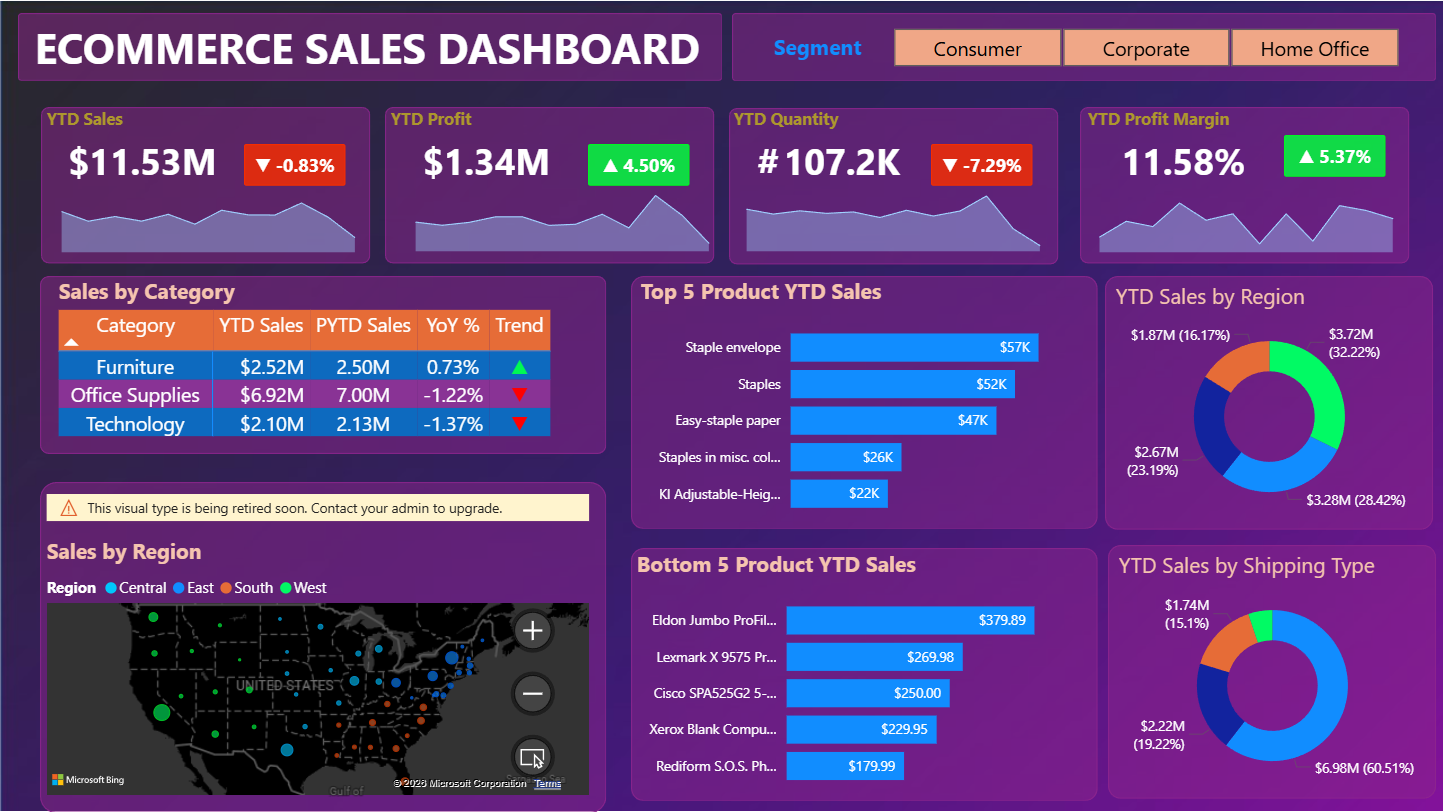

Layout of this report page (visuals, bound fields, positions):
{"tool":"powerbi","page":{"name":"Overview","canvas":[1280,720],"ordinal":0},"visuals":[{"type":"shape","box":[15.6,10.7,624.4,60.3],"z":0},{"type":"textbox","box":[25.3,10.9,614.1,60.3],"z":1000},{"type":"shape","box":[36.2,94.1,292,138.7],"z":2000},{"type":"advanceCardE03760C5AB684758B56AA29F9E6C257B","title":"YTD Sales","fields":{"mainMeasure":["ecommerce_data.YTD Sales"]},"box":[36.2,94.1,179.8,70],"z":3000},{"type":"areaChart","fields":{"Category":["Calendar Table.MonthNum"],"Y":["Sum(ecommerce_data.sales_per_order)"]},"box":[15.7,158,313.7,70],"z":4000},{"type":"advanceCardE03760C5AB684758B56AA29F9E6C257B","fields":{"mainMeasure":["Calendar Table.Trend Card"]},"box":[216,126.7,90.5,37.4],"z":5000},{"type":"shape","box":[341.7,94.1,292,138.7],"z":6000},{"type":"advanceCardE03760C5AB684758B56AA29F9E6C257B","title":"YTD Profit","fields":{"mainMeasure":["Calendar Table.YTD profit"]},"box":[341.7,94.1,179.8,70],"z":7000},{"type":"advanceCardE03760C5AB684758B56AA29F9E6C257B","fields":{"mainMeasure":["Calendar Table.Trend profit"]},"box":[521.4,126.7,90.5,37.4],"z":8000},{"type":"areaChart","fields":{"Category":["Calendar Table.MonthNum"],"Y":["Sum(ecommerce_data.profit_per_order)"]},"box":[329.6,157.1,313.7,70],"z":9000},{"type":"shape","box":[646,94.5,292,138.7],"z":10000},{"type":"advanceCardE03760C5AB684758B56AA29F9E6C257B","title":"YTD Quantity","fields":{"mainMeasure":["Calendar Table.YTD quantity"]},"box":[645.4,94.1,179.8,70],"z":11000},{"type":"advanceCardE03760C5AB684758B56AA29F9E6C257B","fields":{"mainMeasure":["Calendar Table.Trend quantity"]},"box":[825.8,127,90.5,37.4],"z":12000},{"type":"areaChart","fields":{"Category":["Calendar Table.MonthNum"],"Y":["Sum(ecommerce_data.order_quantity)"]},"box":[623.7,156.8,313.7,70],"z":13000},{"type":"shape","box":[957.9,94.1,292,138.7],"z":14000},{"type":"advanceCardE03760C5AB684758B56AA29F9E6C257B","title":"YTD Profit Margin","fields":{"mainMeasure":["Calendar Table.YTD profit margin"]},"box":[959.1,94.1,179.8,70],"z":15000},{"type":"advanceCardE03760C5AB684758B56AA29F9E6C257B","fields":{"mainMeasure":["Calendar Table.Trend profit margin"]},"box":[1138.9,118.7,90.5,37.4],"z":16000},{"type":"areaChart","fields":{"Category":["Calendar Table.MonthNum"],"Y":["Calendar Table.Profit Margin"]},"box":[936.2,158,313.7,70],"z":17000},{"type":"shape","box":[35.7,244.3,502.2,157.8],"z":18000},{"type":"pivotTable","title":"Sales by Category","fields":{"Rows":["ecommerce_data.category_name"],"Values":["ecommerce_data.YTD Sales","ecommerce_data.PYTD Sales","ecommerce_data.YoY sales","Calendar Table.Sale icon"]},"box":[46.7,244.3,491.3,157.8],"z":19000},{"type":"shape","box":[35.7,426.8,502.2,293.7],"z":20000},{"type":"map","title":"Sales by Region","fields":{"Size":["ecommerce_data.YTD Sales"],"Y":["us_state_long_lat_codes.latitude"],"X":["us_state_long_lat_codes.longitude"],"Series":["ecommerce_data.customer_region"]},"box":[36.2,436.7,491,272.7],"z":21000},{"type":"shape","box":[559.8,243.7,413.8,224.4],"z":22000},{"type":"shape","box":[559.8,485,413.8,224.4],"z":23000},{"type":"barChart","title":"Top 5 Product YTD Sales","fields":{"Category":["ecommerce_data.product_name"],"Y":["ecommerce_data.YTD Sales"]},"box":[563.4,243.7,406.6,224.4],"z":24000},{"type":"barChart","title":"Bottom 5 Product YTD Sales","fields":{"Category":["ecommerce_data.product_name"],"Y":["ecommerce_data.YTD Sales"]},"box":[559.9,485.8,406.2,223.7],"z":25000},{"type":"shape","box":[979.8,244.3,290.9,225],"z":26000},{"type":"donutChart","fields":{"Category":["ecommerce_data.customer_region"],"Y":["ecommerce_data.YTD Sales"]},"box":[983.9,248.4,282.7,215.4],"z":27000},{"type":"shape","box":[982.5,482.6,290.9,225],"z":28000},{"type":"donutChart","fields":{"Category":["ecommerce_data.shipping_type"],"Y":["ecommerce_data.YTD Sales"]},"box":[987.3,486.7,282.7,215.4],"z":29000},{"type":"shape","box":[649.1,11,624.4,60.4],"z":30000},{"type":"slicer","fields":{"Values":["ecommerce_data.customer_segment"]},"box":[767.1,17.8,496.7,45.3],"z":31000},{"type":"textbox","box":[680.6,23.3,100.2,37],"z":32000}]}

Visuals, with their boxes in screenshot pixels (x1, y1, x2, y2), scaled from the page's 1280x720 canvas onto the 1443x812 screenshot:
shape: box=[18, 12, 722, 80]
textbox: box=[29, 12, 721, 80]
shape: box=[41, 106, 370, 263]
"YTD Sales" advanceCardE03760C5AB684758B56AA29F9E6C257B: box=[41, 106, 244, 185]
areaChart - Calendar Table.MonthNum x Sum(ecommerce_data.sales_per_order): box=[18, 178, 371, 257]
advanceCardE03760C5AB684758B56AA29F9E6C257B - Calendar Table.Trend Card: box=[244, 143, 346, 185]
shape: box=[385, 106, 714, 263]
"YTD Profit" advanceCardE03760C5AB684758B56AA29F9E6C257B: box=[385, 106, 588, 185]
advanceCardE03760C5AB684758B56AA29F9E6C257B - Calendar Table.Trend profit: box=[588, 143, 690, 185]
areaChart - Calendar Table.MonthNum x Sum(ecommerce_data.profit_per_order): box=[372, 177, 725, 256]
shape: box=[728, 107, 1057, 263]
"YTD Quantity" advanceCardE03760C5AB684758B56AA29F9E6C257B: box=[728, 106, 930, 185]
advanceCardE03760C5AB684758B56AA29F9E6C257B - Calendar Table.Trend quantity: box=[931, 143, 1033, 185]
areaChart - Calendar Table.MonthNum x Sum(ecommerce_data.order_quantity): box=[703, 177, 1057, 256]
shape: box=[1080, 106, 1409, 263]
"YTD Profit Margin" advanceCardE03760C5AB684758B56AA29F9E6C257B: box=[1081, 106, 1284, 185]
advanceCardE03760C5AB684758B56AA29F9E6C257B - Calendar Table.Trend profit margin: box=[1284, 134, 1386, 176]
areaChart - Calendar Table.MonthNum x Calendar Table.Profit Margin: box=[1055, 178, 1409, 257]
shape: box=[40, 276, 606, 453]
"Sales by Category" pivotTable: box=[53, 276, 607, 453]
shape: box=[40, 481, 606, 811]
"Sales by Region" map: box=[41, 493, 594, 800]
shape: box=[631, 275, 1098, 528]
shape: box=[631, 547, 1098, 800]
"Top 5 Product YTD Sales" barChart: box=[635, 275, 1094, 528]
"Bottom 5 Product YTD Sales" barChart: box=[631, 548, 1089, 800]
shape: box=[1105, 276, 1433, 529]
donutChart - ecommerce_data.customer_region x ecommerce_data.YTD Sales: box=[1109, 280, 1428, 523]
shape: box=[1108, 544, 1436, 798]
donutChart - ecommerce_data.shipping_type x ecommerce_data.YTD Sales: box=[1113, 549, 1432, 792]
shape: box=[732, 12, 1436, 81]
slicer - ecommerce_data.customer_segment: box=[865, 20, 1425, 71]
textbox: box=[767, 26, 880, 68]
